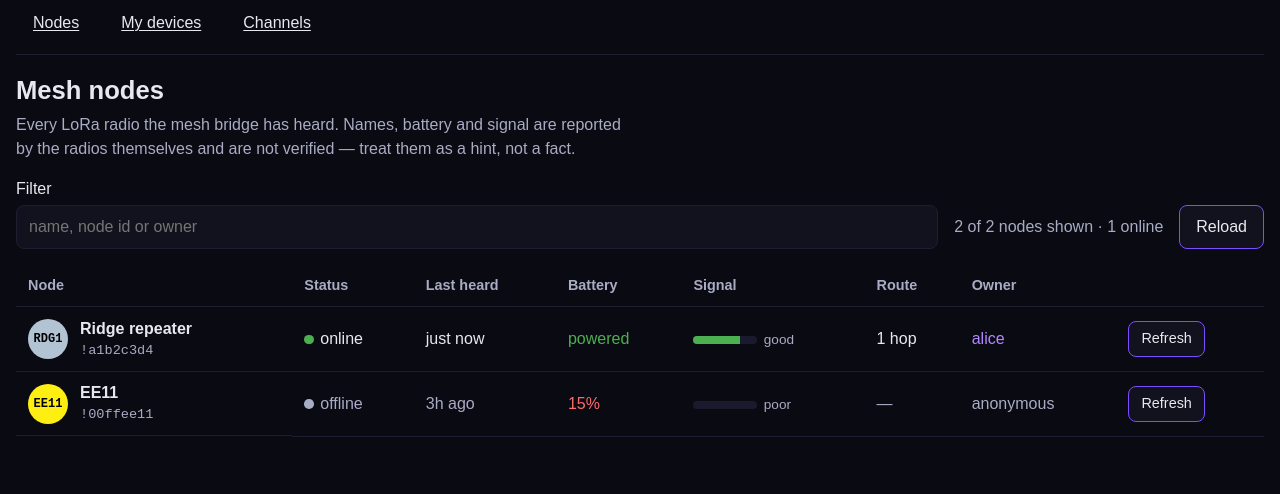
Scenario: NodesComponent › reports a failed row refresh beside the row, not as a directory-wide banner
Click the button with test id "mesh-node-refresh-00ffee11": (1167, 404) x1=1128 y1=386 x2=1205 y2=422
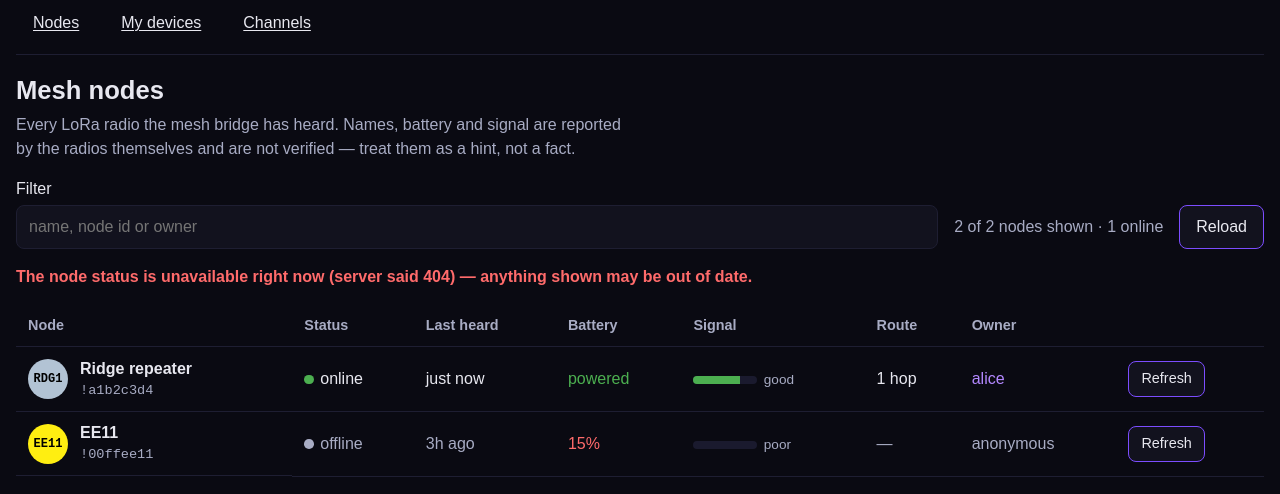
Check: the message with test id "mesh-nodes-refresh-note" shows "server said 404", box x1=16 y1=268 x2=752 y2=285
Click the button with test id "mesh-node-refresh-00ffee11": (1167, 444) x1=1128 y1=426 x2=1205 y2=462
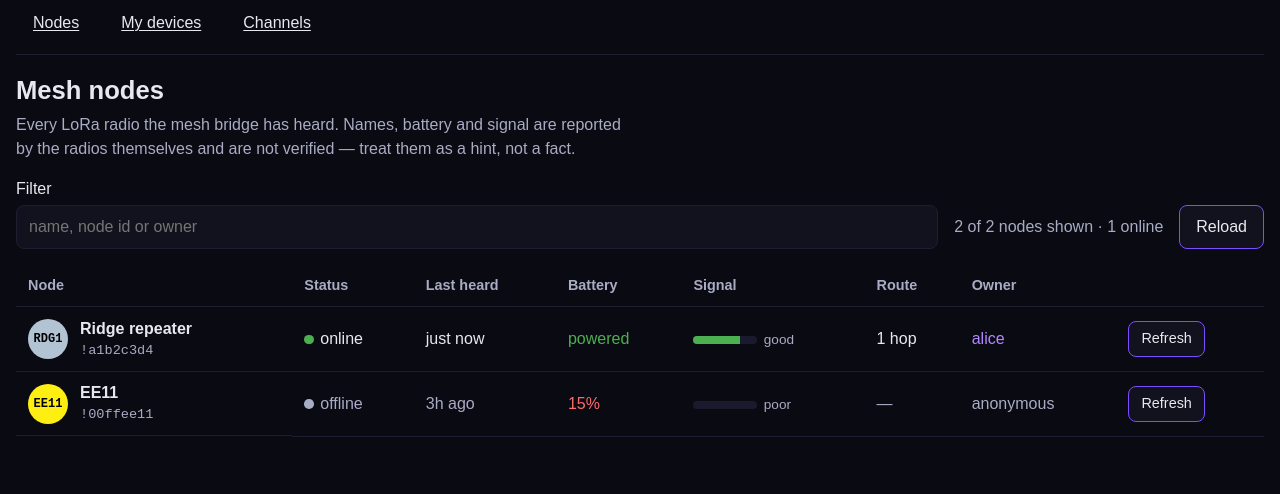
Check: the message with test id "mesh-nodes-refresh-note" is gone
